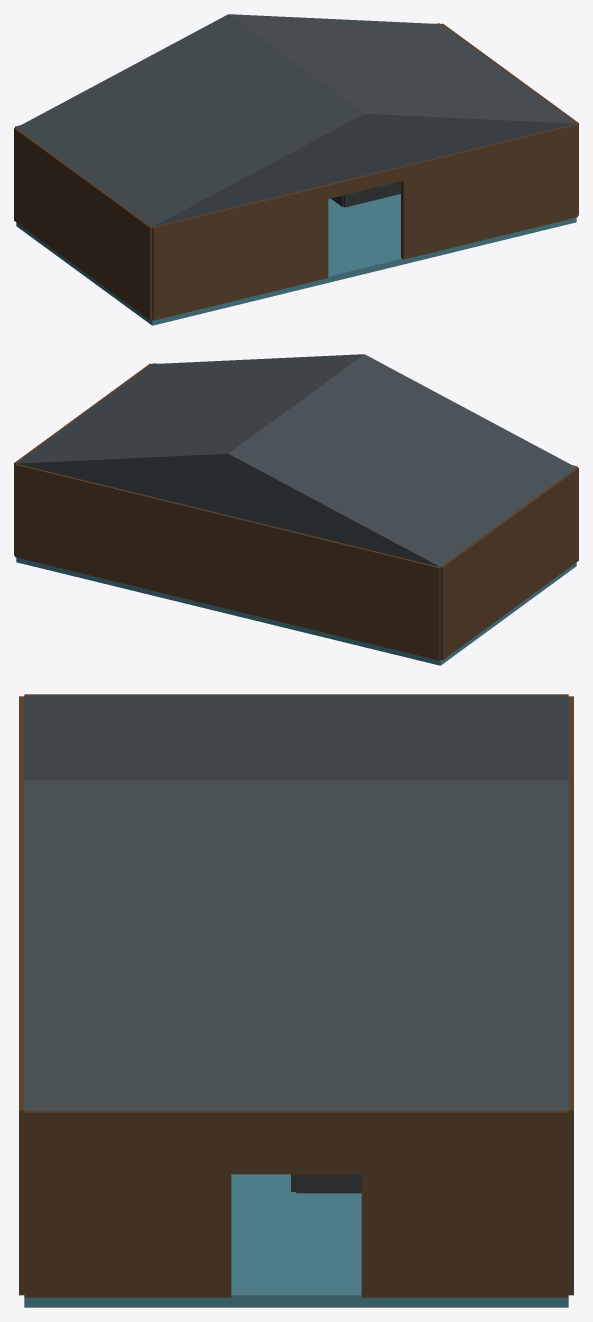
Rendered from HAR-006_PRIZE_HOG_BARN_PLAYABLE_BLOCKOUT.fbx.
3 renders of one model, top to bottom at view 1: azimuth 30°, elevation 25°; view 2: azimuth 150°, elevation 25°; view 3: azimuth 270°, elevation 25°, orthographic. The views are drawn at different scales.
Visible parts, largest first — view 1: HAR006_BarnRoof, HAR006_BarnWallsPlayableOpenings, HAR006_WalkableSlab, HAR006_PensOutsideCenterAisle; view 2: HAR006_BarnRoof, HAR006_BarnWallsPlayableOpenings, HAR006_WalkableSlab; view 3: HAR006_BarnRoof, HAR006_BarnWallsPlayableOpenings, HAR006_WalkableSlab, HAR006_PensOutsideCenterAisle.
Part boxes in pixels (<box>): HAR006_BarnRoof: <box>16,14,575,226</box>; HAR006_BarnWallsPlayableOpenings: <box>14,23,578,320</box>; HAR006_WalkableSlab: <box>16,194,576,325</box>; HAR006_PensOutsideCenterAisle: <box>331,181,400,207</box>; HAR006_BarnRoof: <box>17,354,576,566</box>; HAR006_BarnWallsPlayableOpenings: <box>14,363,578,660</box>; HAR006_WalkableSlab: <box>16,557,576,665</box>; HAR006_BarnRoof: <box>24,696,568,1110</box>; HAR006_BarnWallsPlayableOpenings: <box>19,694,573,1297</box>; HAR006_WalkableSlab: <box>24,1174,568,1307</box>; HAR006_PensOutsideCenterAisle: <box>291,1174,361,1193</box>.
Size of the model in its own units: 18.2 by 6.5 by 10.2.
